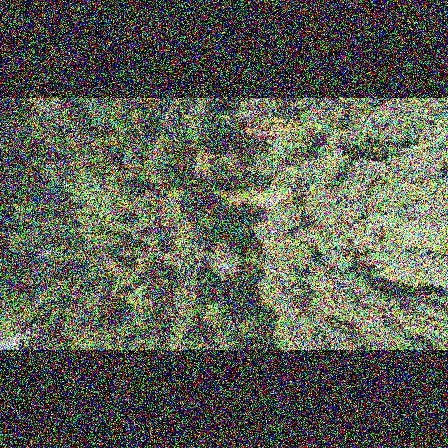Sick: (214, 248, 242, 282), (353, 110, 381, 140), (142, 148, 171, 172), (38, 242, 65, 265), (87, 291, 110, 314), (190, 240, 210, 264), (262, 223, 285, 242)
